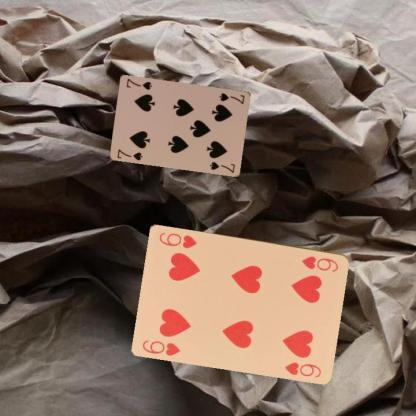6h: (140, 337, 182, 357), (299, 253, 340, 273)
7s: (115, 146, 144, 162), (217, 90, 246, 105)
